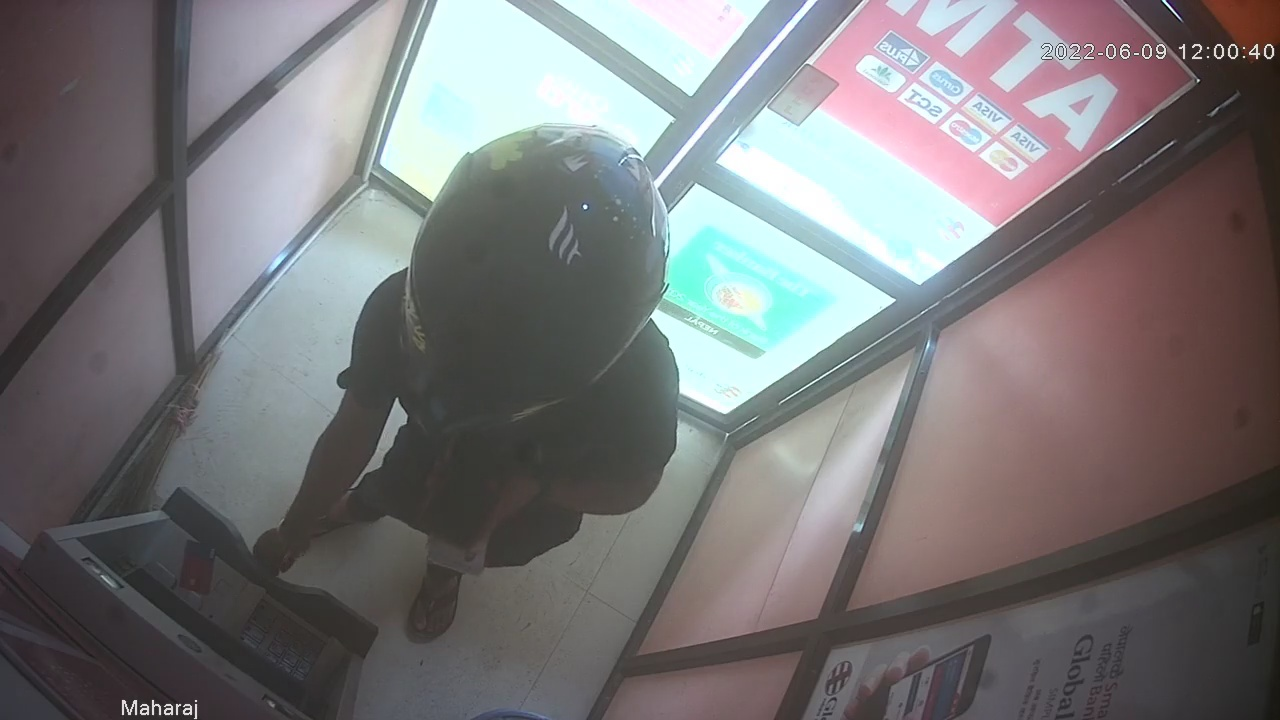helmet: (397, 120, 669, 428)
person: (249, 119, 681, 647)
